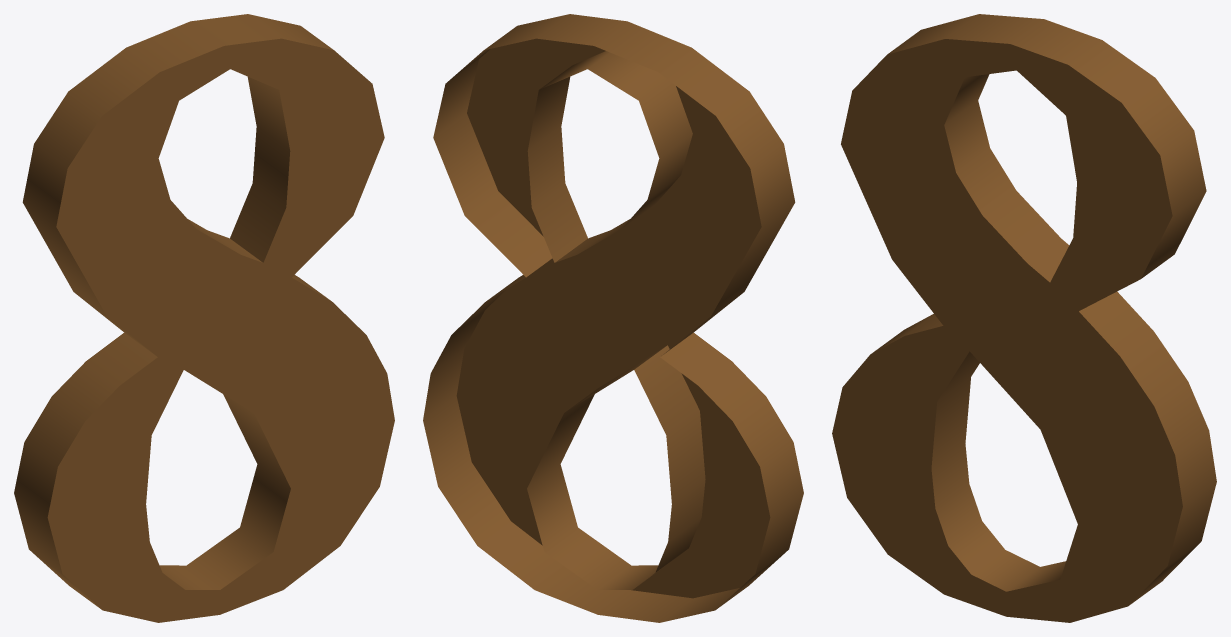
3 views of the same model, side by side, from view 1: azimuth 30°, elevation 25°; view 2: azimuth 150°, elevation 25°; view 3: azimuth 330°, elevation 25° (orthographic).
Parts seen in each view (by area): view 1: 8; view 2: 8; view 3: 8.
Part boxes in pixels (left/top/right/bottom): 8: left=14, top=14, right=394, bottom=622; 8: left=423, top=14, right=803, bottom=622; 8: left=832, top=14, right=1216, bottom=622.
Bounding box in the file's own units: 6.55 × 10.24 × 1.1.
